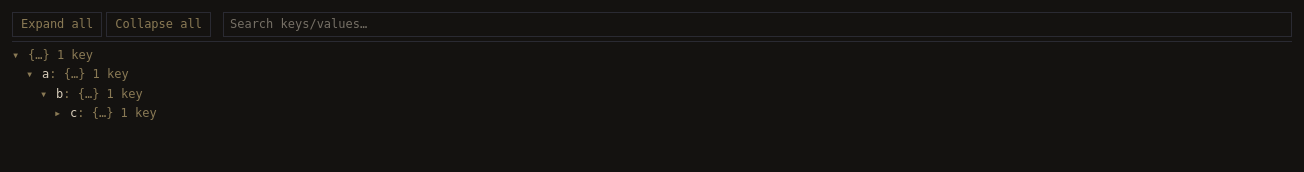
it: JsonTreeView toolbar — search › force-expands ancestors of a match and highlights the matching node
This screenshot has width=1304, height=172.
expect the text "needleKey" is not shown: met
Type "needle" into the field at (758, 25), box [223,12,1292,37]
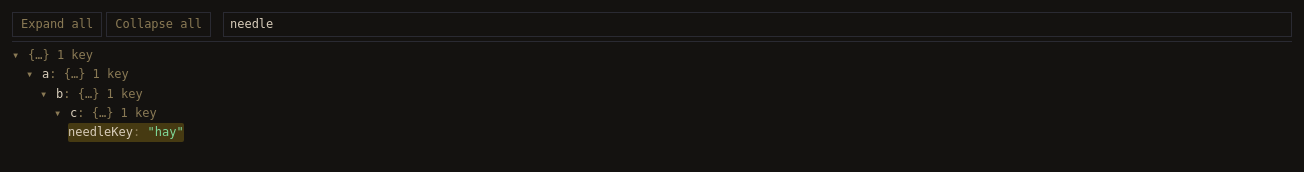
expect the text "needleKey" is shown: met, box [68,125,133,139]
expect the element showing "needleKey: \"hay\"" is shown: met, box [68,123,184,142]
